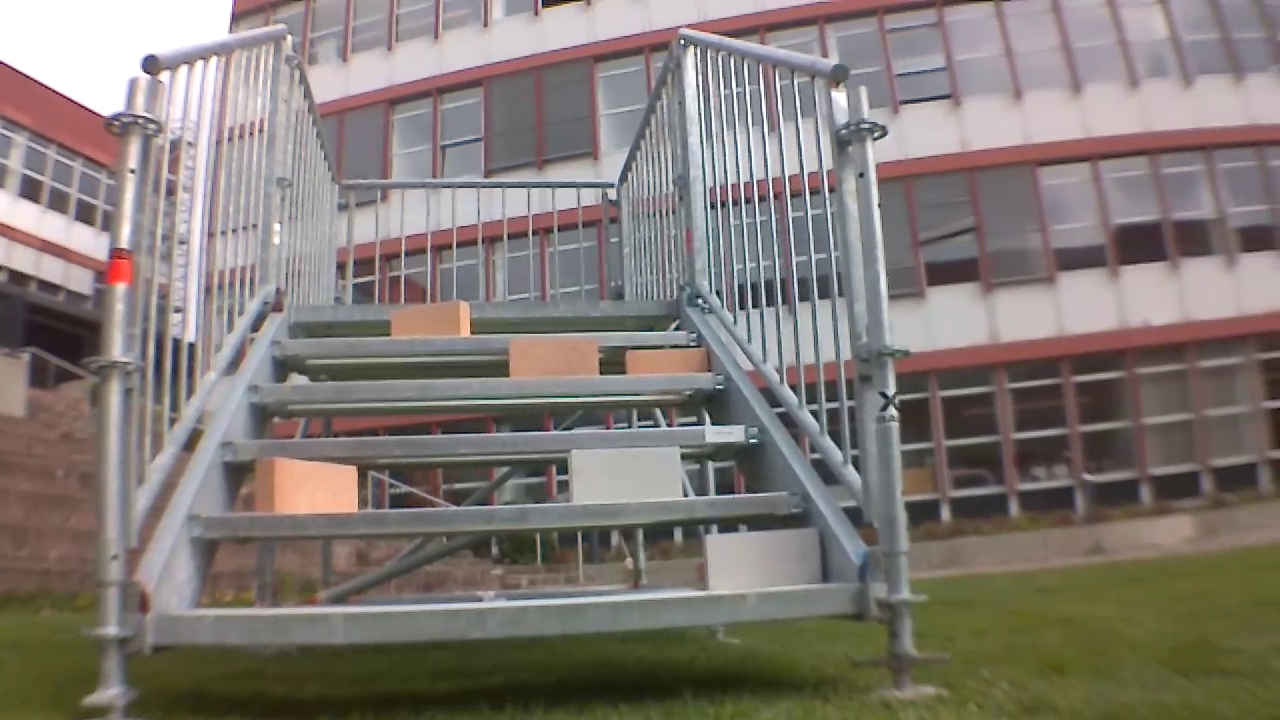brick: (704, 529, 821, 589), (567, 446, 681, 501), (255, 457, 357, 513), (509, 339, 596, 376), (391, 300, 470, 336), (626, 347, 705, 373)
edge: (154, 584, 860, 642), (189, 492, 803, 535), (221, 425, 765, 456), (246, 374, 724, 400), (271, 332, 701, 352), (290, 300, 676, 321)
stairs: (79, 24, 951, 715)
steps: (144, 295, 866, 648)
